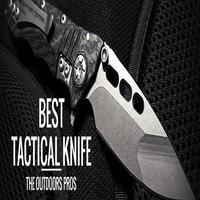knife: (12, 2, 194, 199)
